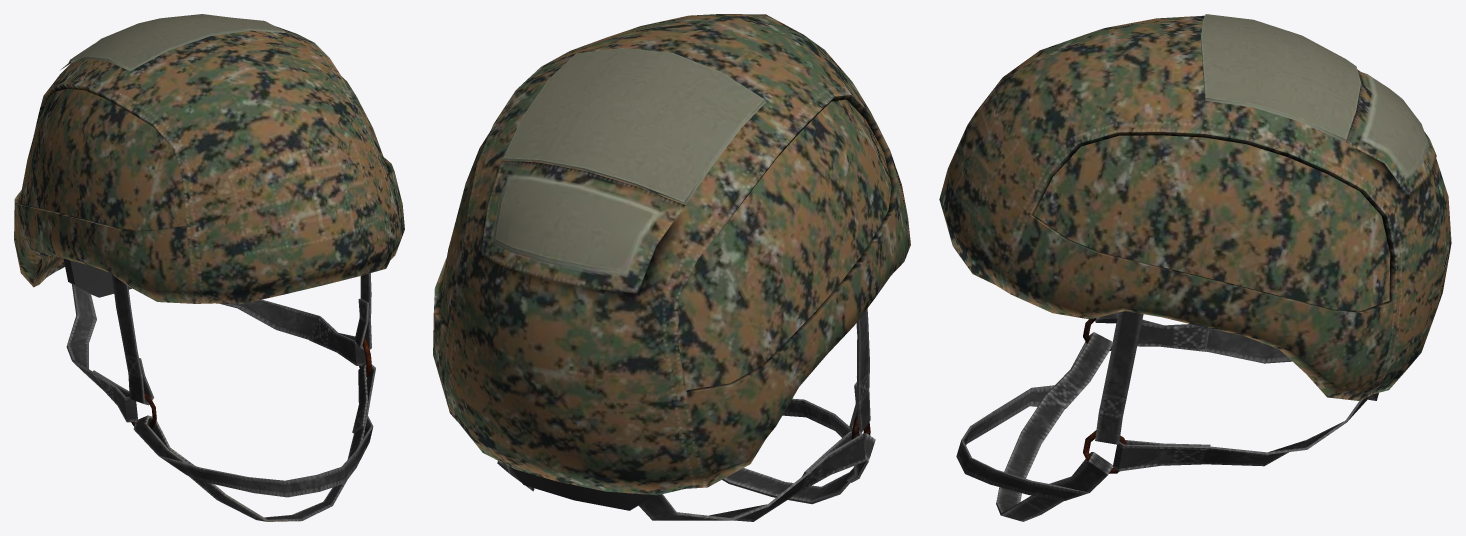
Rendered from helmet.glb.
3 renders of one model, left to right at view 1: azimuth 30°, elevation 25°; view 2: azimuth 150°, elevation 25°; view 3: azimuth 270°, elevation 25°, orthographic. The views are drawn at different scales.
Parts seen in each view (by area): view 1: Box001_01 - Default_0; view 2: Box001_01 - Default_0; view 3: Box001_01 - Default_0.
Part boxes in pixels (bbox=[...]): Box001_01 - Default_0: bbox=[14, 14, 404, 521]; Box001_01 - Default_0: bbox=[433, 14, 910, 521]; Box001_01 - Default_0: bbox=[939, 14, 1451, 521].
Size of the model in its own units: 0.2 by 0.2685 by 0.2643.
Materials: 1 (1 with a texture image).
